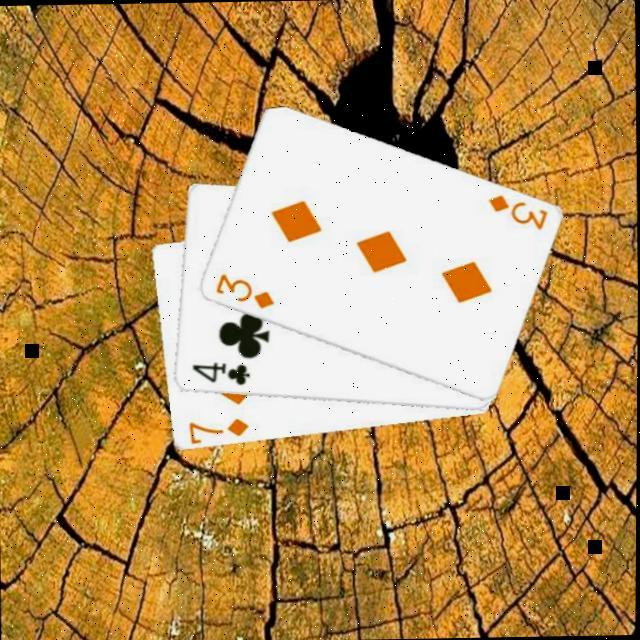3D: (210, 268, 276, 312), (483, 189, 550, 232)
4C: (187, 357, 252, 388)
7D: (184, 414, 250, 443)
